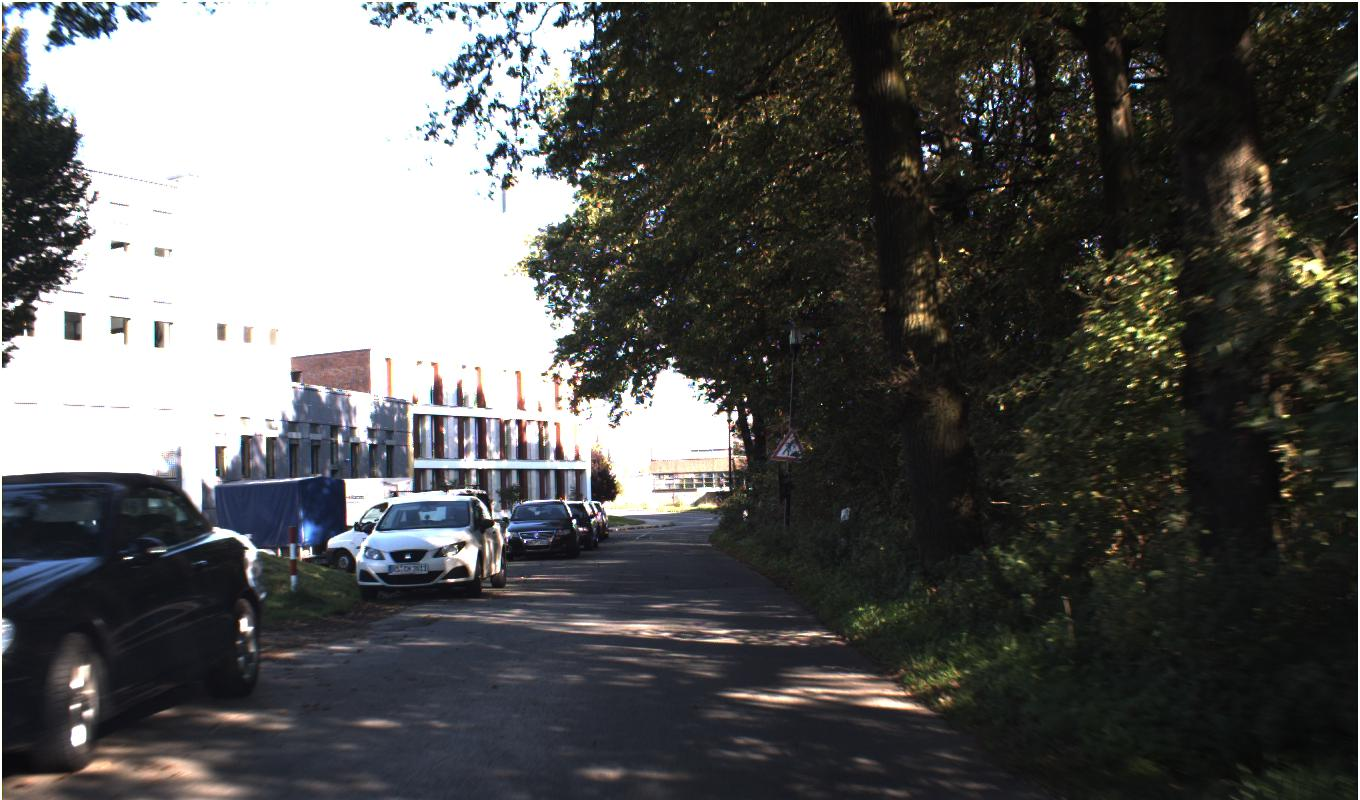danger: (770, 426, 808, 462)
